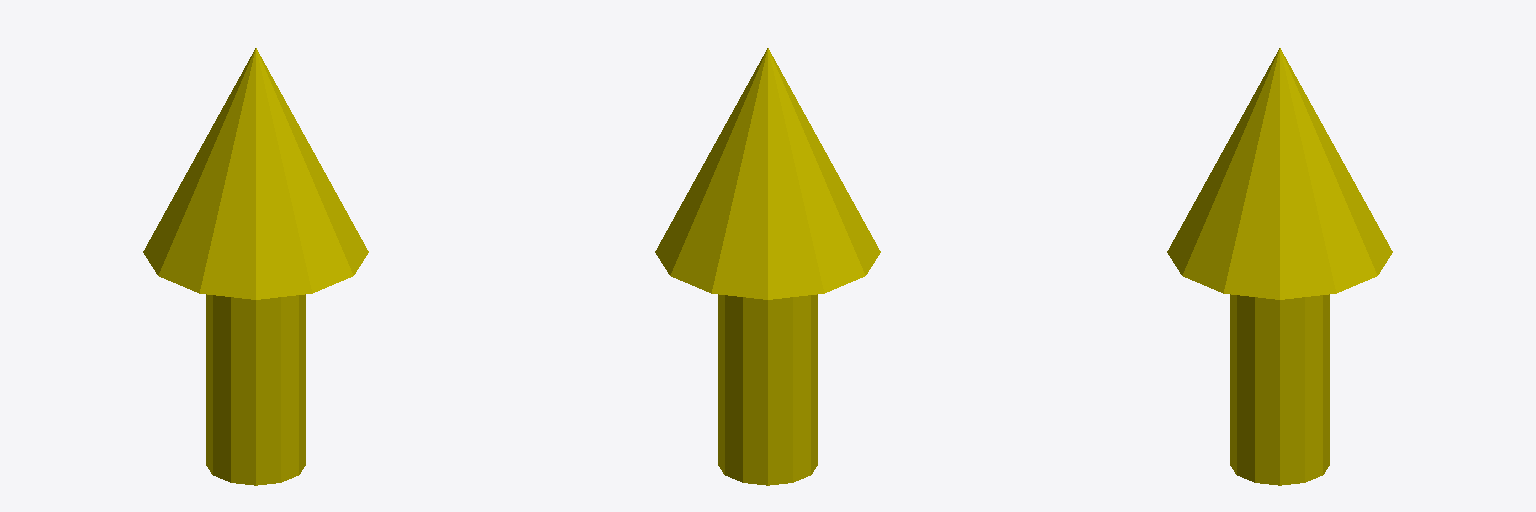
File: Arrow.obj
The picture shows the model from 3 angles: view 1: azimuth 30°, elevation 25°; view 2: azimuth 150°, elevation 25°; view 3: azimuth 270°, elevation 25°; orthographic projection.
Parts seen in each view (by area): view 1: Cone; view 2: Cone; view 3: Cone.
Boxes of the visible parts, x1=… form: Cone: x1=143, y1=48, x2=368, y2=485; Cone: x1=655, y1=48, x2=880, y2=485; Cone: x1=1167, y1=48, x2=1392, y2=485.
Bounding box in the file's own units: 0.4911 × 1 × 0.4911.